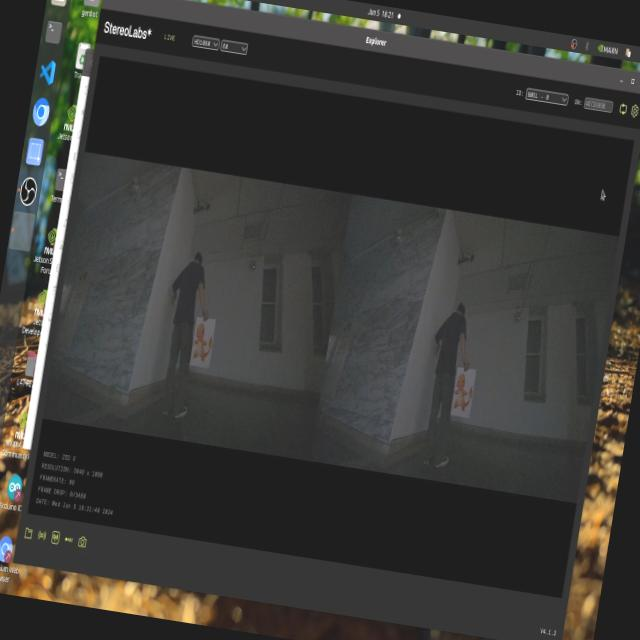red: (184, 316, 220, 366), (451, 364, 477, 419)
